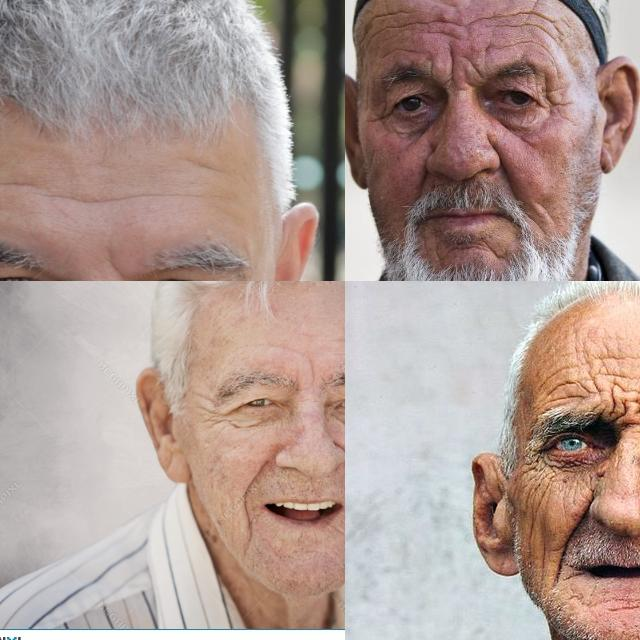bunny_line: (586, 473, 602, 497)
chin: (483, 240, 513, 266), (608, 593, 640, 616), (566, 589, 594, 609), (431, 242, 449, 264)
crows_feet: (539, 84, 573, 122), (203, 404, 233, 430), (369, 100, 393, 130), (526, 446, 546, 476)
forehead: (53, 184, 141, 222), (484, 1, 554, 36), (364, 3, 416, 41), (424, 8, 468, 44), (587, 352, 621, 390), (542, 368, 580, 402), (0, 172, 40, 201), (497, 34, 553, 54), (186, 152, 220, 178), (336, 331, 345, 352)
frown_line: (101, 244, 129, 281), (442, 48, 462, 86), (608, 399, 640, 422), (466, 54, 486, 82), (306, 356, 322, 390), (422, 50, 436, 80)
gummy_smile: (557, 504, 583, 564), (243, 455, 269, 499), (499, 159, 519, 199), (411, 166, 429, 202)
masseter: (526, 491, 542, 553), (536, 199, 556, 227)
sad_smile: (239, 507, 259, 543)
